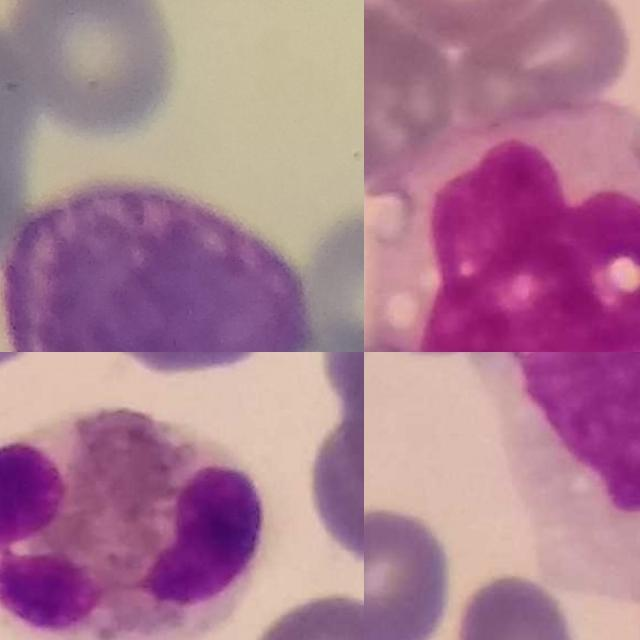Basophil: (1, 183, 309, 352)
Eosinophil: (0, 407, 265, 640)
Monocyte: (379, 98, 640, 352), (472, 352, 640, 593)
